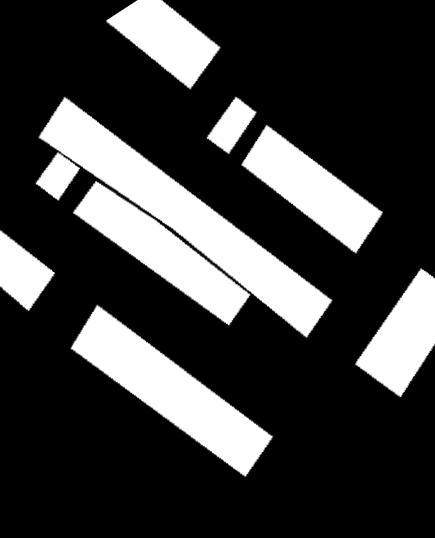parkingspot: (36, 97, 332, 338), (71, 305, 273, 477), (73, 181, 250, 325), (241, 125, 383, 253), (355, 269, 435, 397), (106, 0, 220, 89), (0, 231, 55, 311), (207, 97, 256, 154)
